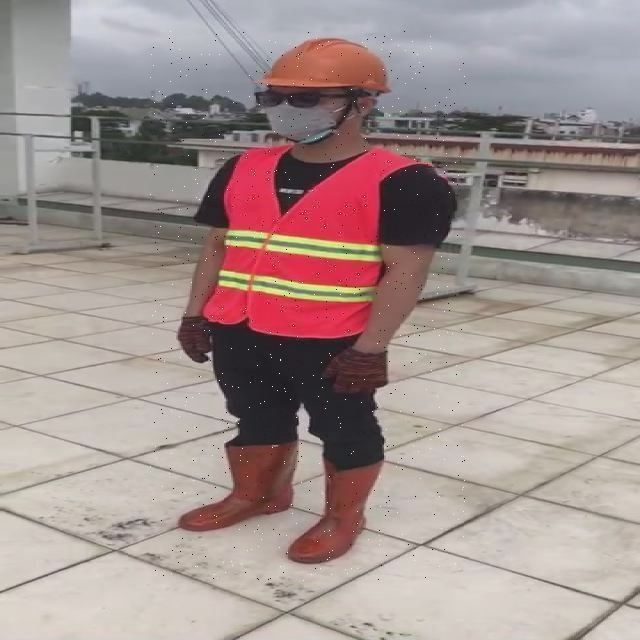boots: (343, 439, 461, 531), (256, 454, 352, 564)
gloves: (249, 351, 318, 396), (424, 310, 465, 360)
helmet: (239, 34, 389, 94)
vest: (249, 141, 434, 336)
